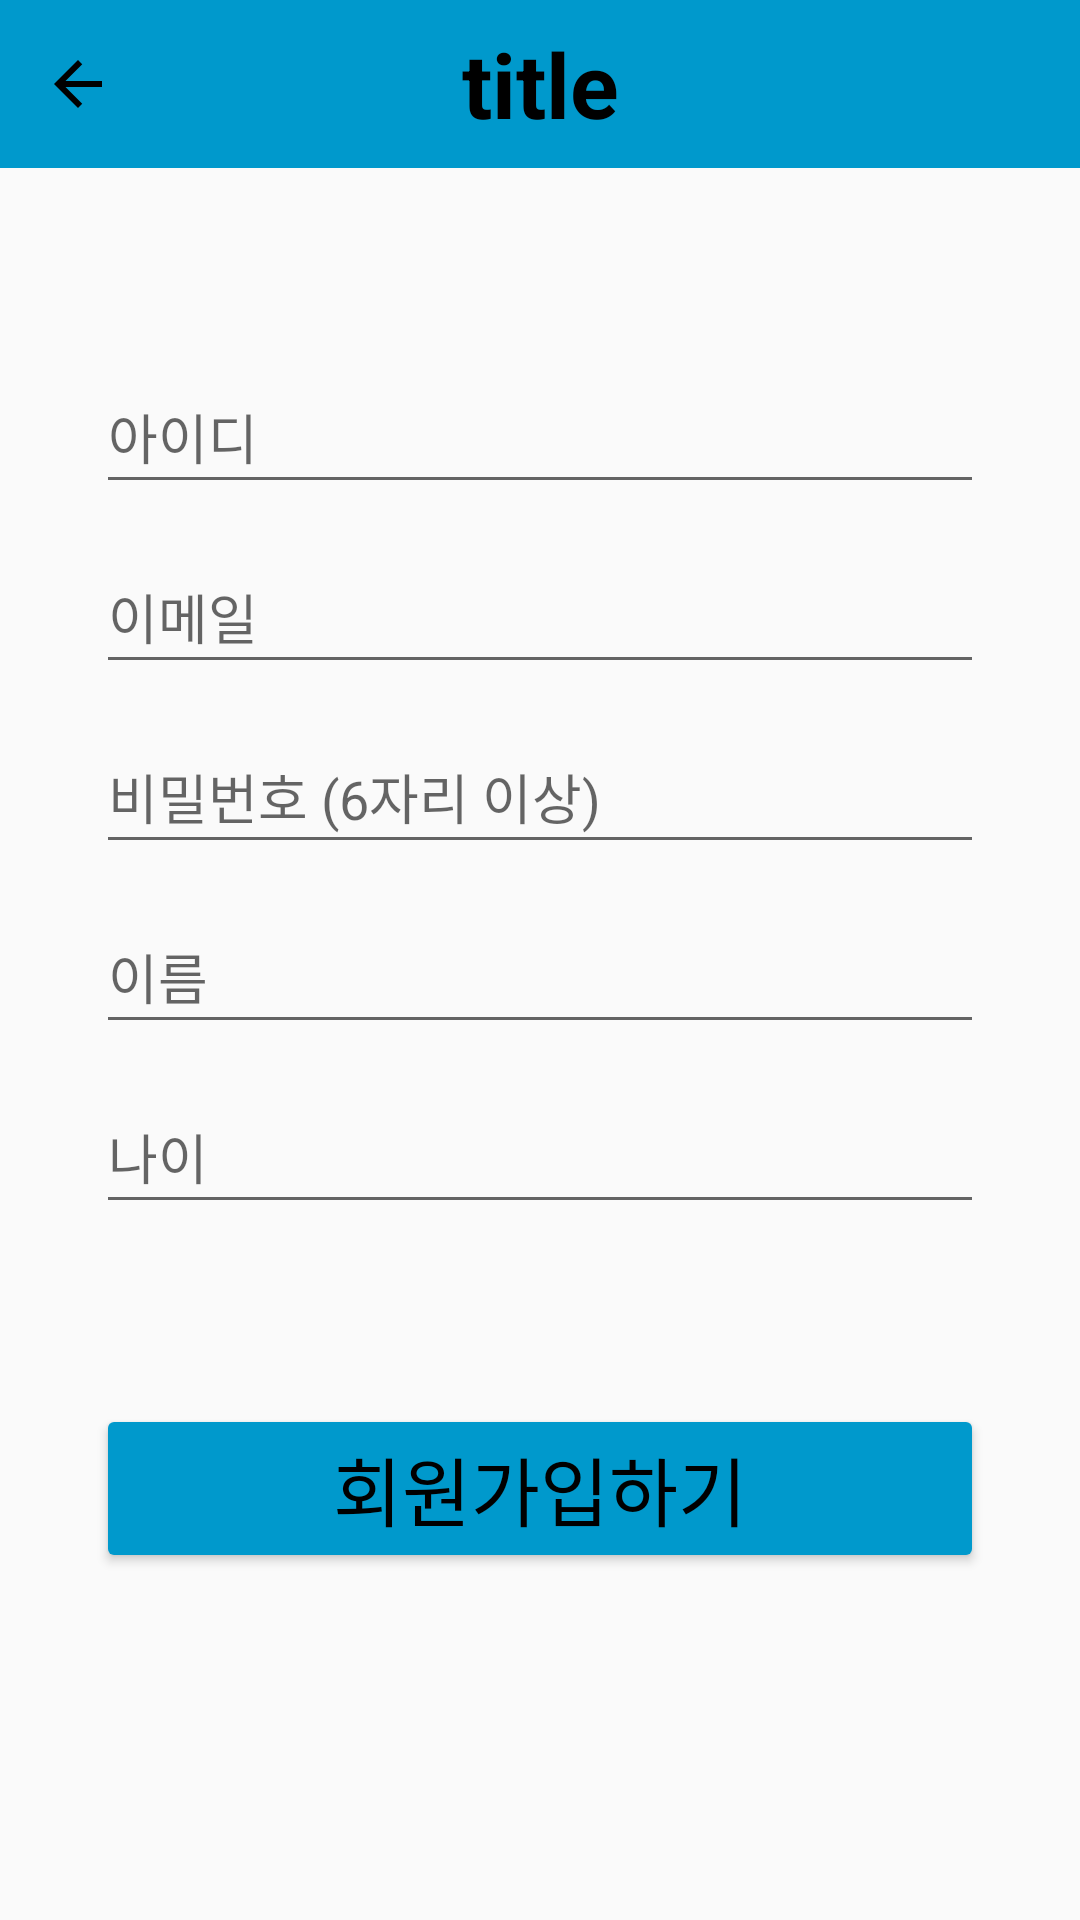

Where to tap for icons on this 1080 × 1920 app screen, as (x=x, y=y):
arrow back: (x=78, y=84)
